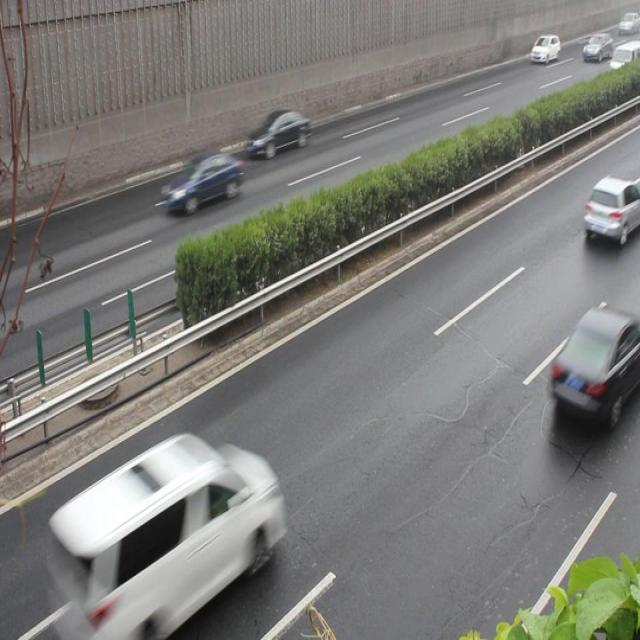car: (46, 437, 279, 640), (548, 304, 640, 425), (164, 150, 243, 208), (582, 174, 640, 244), (246, 109, 310, 160)
